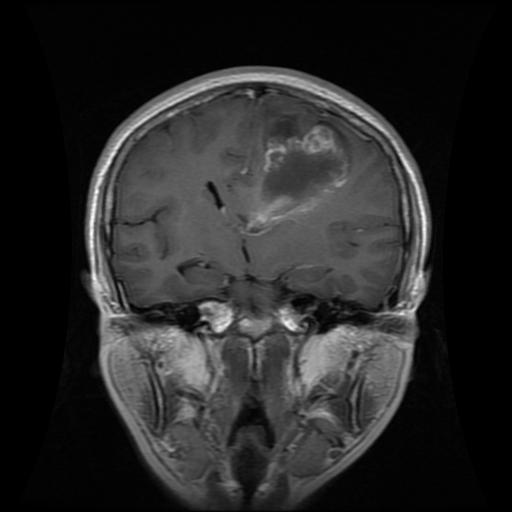Gliomia_tumour: (246, 109, 350, 228)
